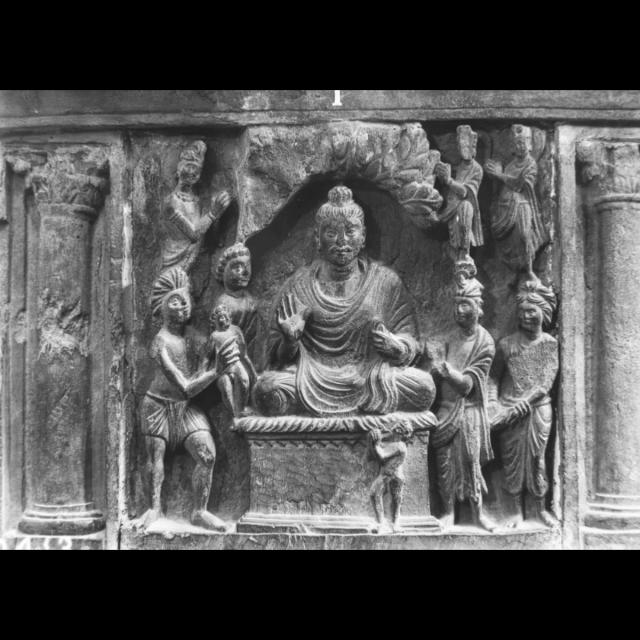buddha-sitting: (246, 143, 439, 432)
